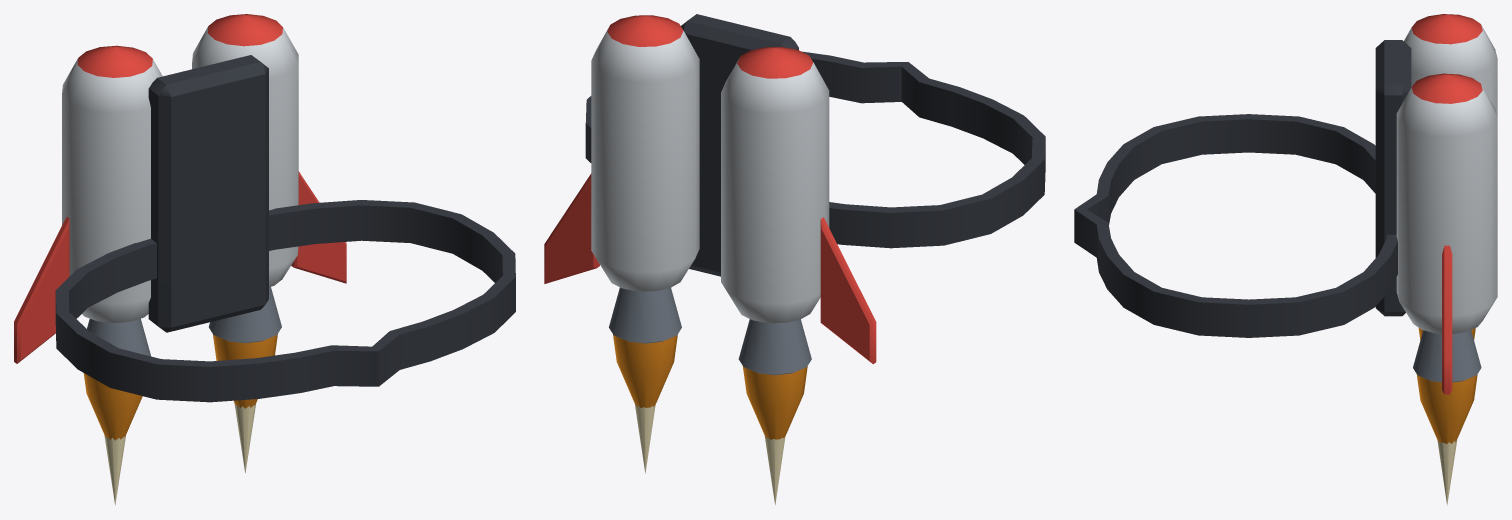
The model's file is Jetpack.fbx.
3 views of the same model, side by side, from view 1: azimuth 30°, elevation 25°; view 2: azimuth 150°, elevation 25°; view 3: azimuth 270°, elevation 25° (orthographic). The views are drawn at different scales.
Visible parts, largest first — view 1: Jetpack; view 2: Jetpack; view 3: Jetpack.
Part boxes in pixels (x1,y1,x2,y2): Jetpack: (14,14,515,504); Jetpack: (544,14,1045,504); Jetpack: (1074,14,1497,505).
Bounding box in the file's own units: 1.13 × 1.19 × 1.06.
1 material, 1 textured.
